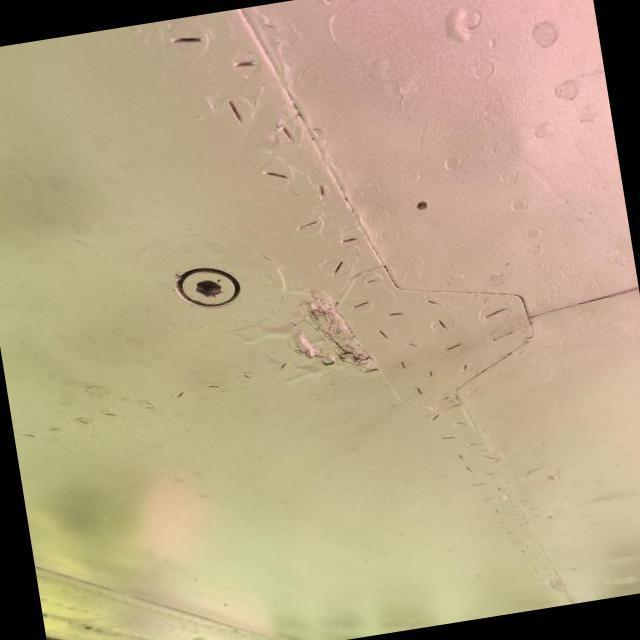Missing Fastener: (408, 198, 444, 222)
